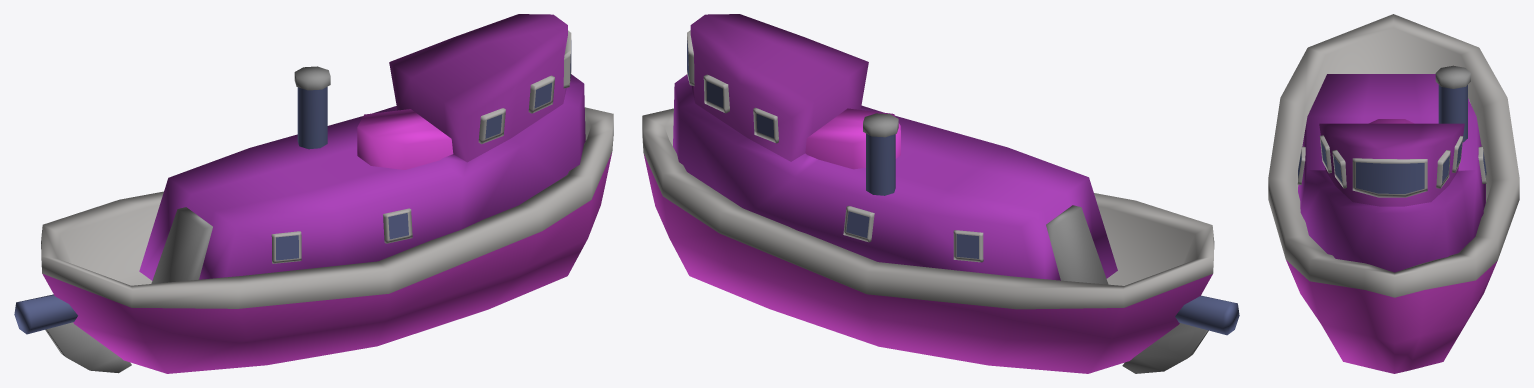
The model's file is Boat_4.fbx.
3 views of the same model, side by side, from view 1: azimuth 30°, elevation 25°; view 2: azimuth 150°, elevation 25°; view 3: azimuth 270°, elevation 25° (orthographic). The views are drawn at different scales.
Parts seen in each view (by area): view 1: Boat_4; view 2: Boat_4; view 3: Boat_4.
Part boxes in pixels (bbox=[...]): Boat_4: bbox=[14, 14, 613, 373]; Boat_4: bbox=[642, 14, 1239, 373]; Boat_4: bbox=[1268, 14, 1519, 373].
Bounding box in the file's own units: 553 × 218 × 214.
Materials: 1 (1 with a texture image).
